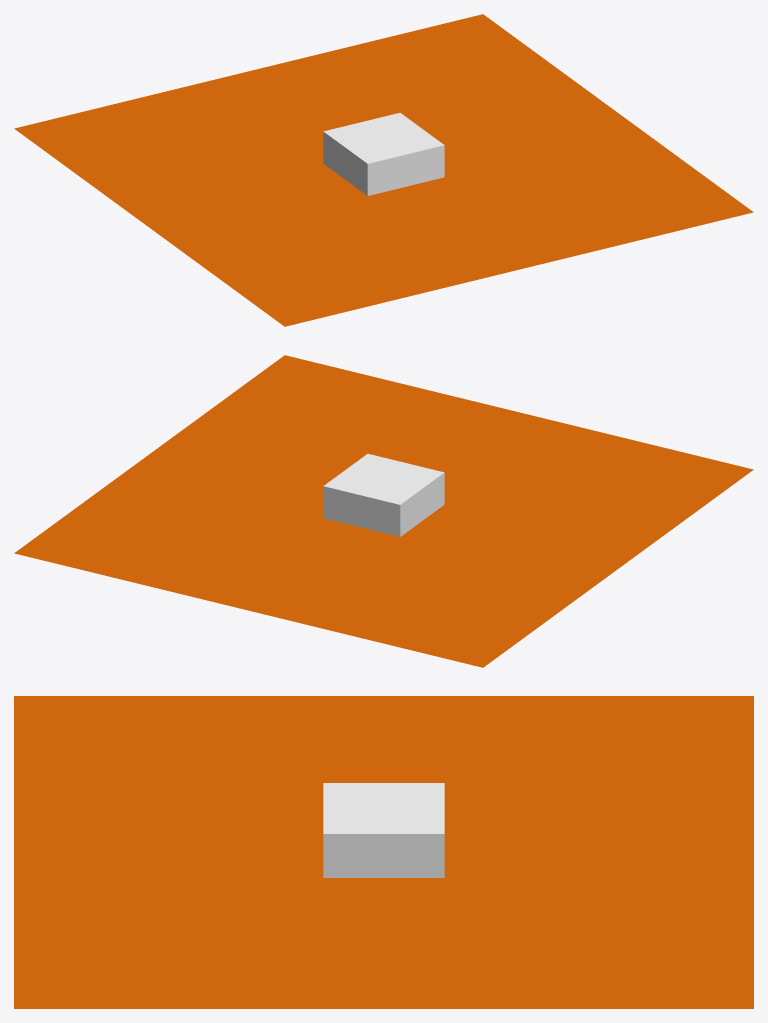
The model's file is tentacles.glb.
The picture shows the model from 3 angles, top to bottom: view 1: azimuth 30°, elevation 25°; view 2: azimuth 150°, elevation 25°; view 3: azimuth 270°, elevation 25°; orthographic projection. The views are drawn at different scales.
Parts seen in each view (by area): view 1: Plane, Tentacles; view 2: Plane, Tentacles; view 3: Plane, Tentacles.
Boxes of the visible parts, x1,y1,x2,y2 form: Plane: (14, 14, 753, 326); Tentacles: (323, 113, 444, 195); Plane: (14, 355, 753, 667); Tentacles: (323, 454, 444, 536); Plane: (14, 696, 753, 1008); Tentacles: (323, 783, 444, 877).
Size of the model in its own units: 12.2 by 2 by 12.2.
